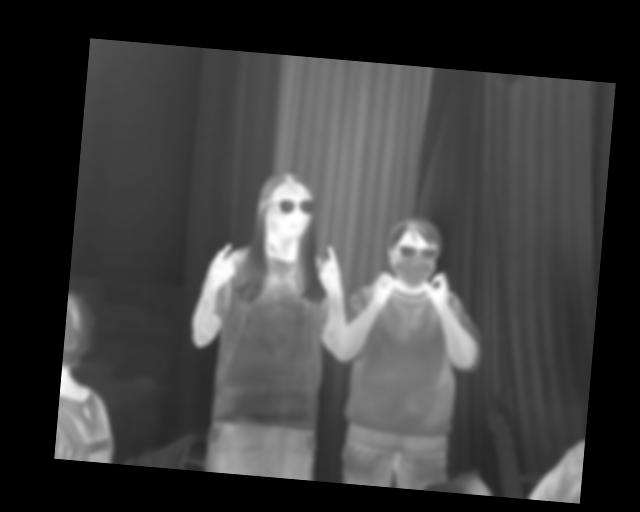face: (384, 215, 443, 289), (259, 171, 317, 241)
